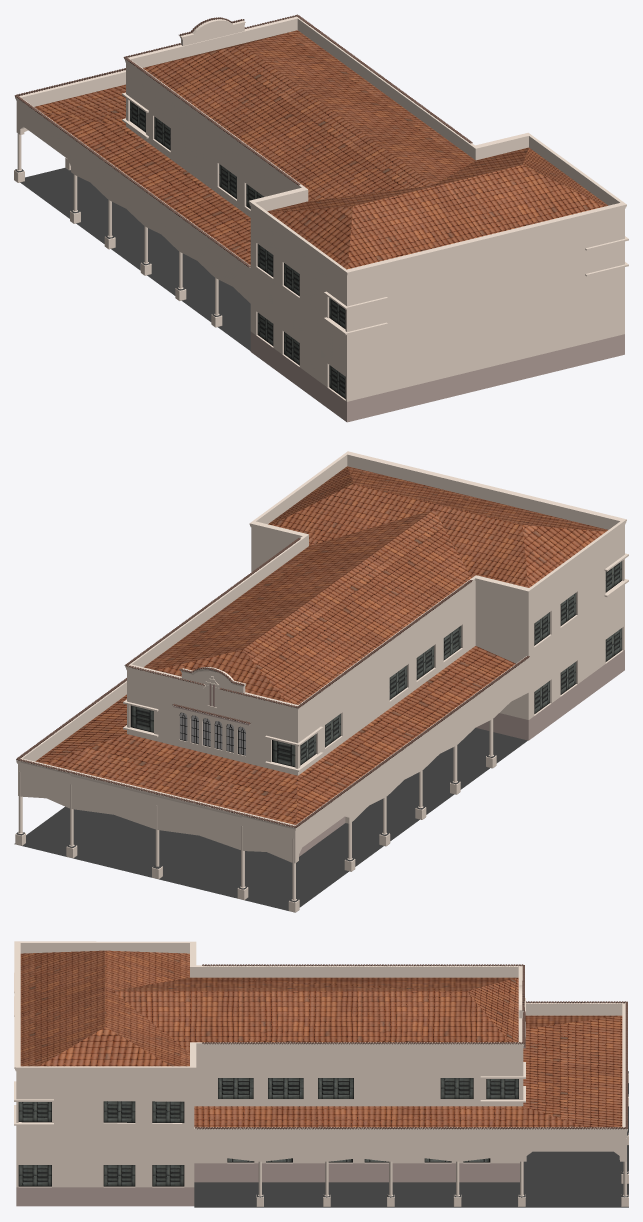
File: estacaoRodoviariaFinal.fbx
The picture shows the model from 3 angles, top to bottom: view 1: azimuth 30°, elevation 25°; view 2: azimuth 150°, elevation 25°; view 3: azimuth 270°, elevation 25°; orthographic projection. The views are drawn at different scales.
Visible parts, largest first — view 1: edificio, edificio.001, chao, telhas; view 2: edificio, edificio.001, chao, telhas, janelas; view 3: edificio, edificio.001, chao, telhas.
Boxes of the visible parts, x1,y1,x2,y2 form: edificio: (14, 16, 628, 422); edificio.001: (34, 30, 607, 269); chao: (20, 167, 250, 350); telhas: (14, 14, 472, 267); edificio: (15, 451, 628, 912); edificio.001: (35, 466, 607, 824); chao: (14, 727, 527, 910); telhas: (16, 538, 529, 828); janelas: (179, 712, 245, 755); edificio: (14, 941, 628, 1206); edificio.001: (20, 950, 622, 1127); chao: (194, 1083, 628, 1207); telhas: (195, 964, 627, 1129).
Bounding box in the file's own units: 1734 × 987 × 3526.
